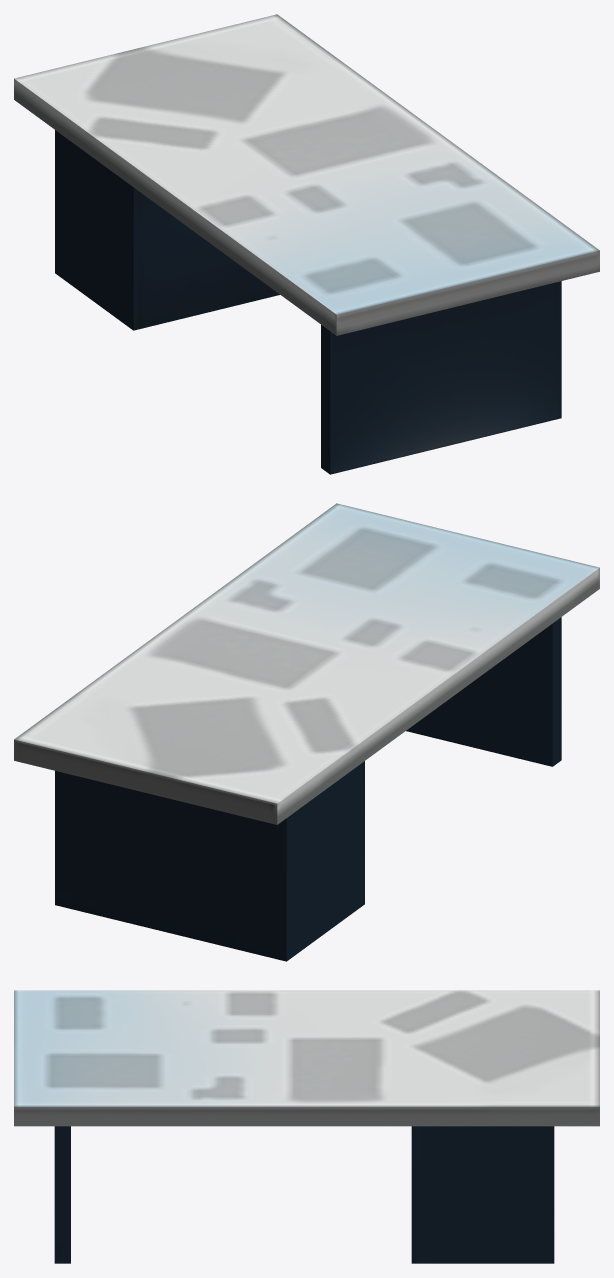
Rendered from Tx_prop_table_3.fbx.
3 renders of one model, top to bottom at view 1: azimuth 30°, elevation 25°; view 2: azimuth 150°, elevation 25°; view 3: azimuth 270°, elevation 25°, orthographic. The views are drawn at different scales.
Visible parts, largest first — view 1: Tx_prop_table_9; view 2: Tx_prop_table_9; view 3: Tx_prop_table_9.
Part boxes in pixels (x1,y1,x2,y2): Tx_prop_table_9: [14, 14, 599, 474]; Tx_prop_table_9: [14, 503, 599, 961]; Tx_prop_table_9: [14, 990, 599, 1263].
Bounding box in the file's own units: 5.15 × 3.37 × 10.92.
Materials: 1 (1 with a texture image).
